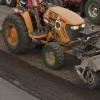Tractor: (9, 1, 90, 78)
